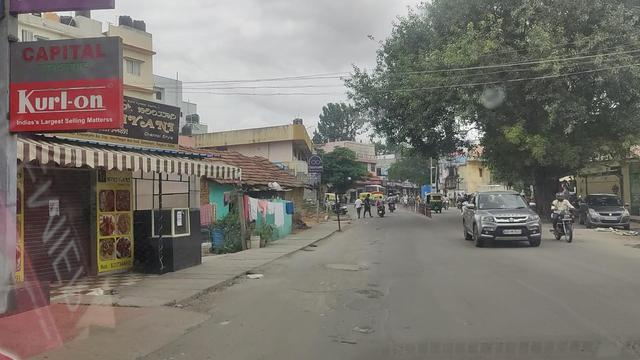RoadDamages: (343, 285, 386, 315), (311, 280, 341, 316), (323, 259, 374, 274)
